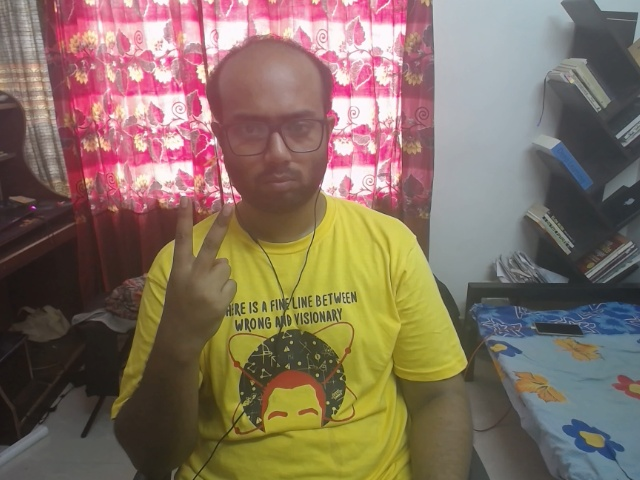two: (144, 187, 266, 340)
